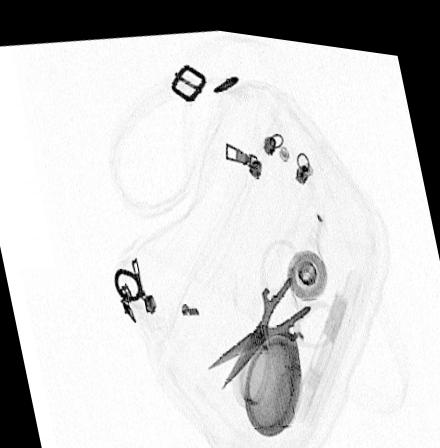Scissors: (201, 230, 335, 385)
